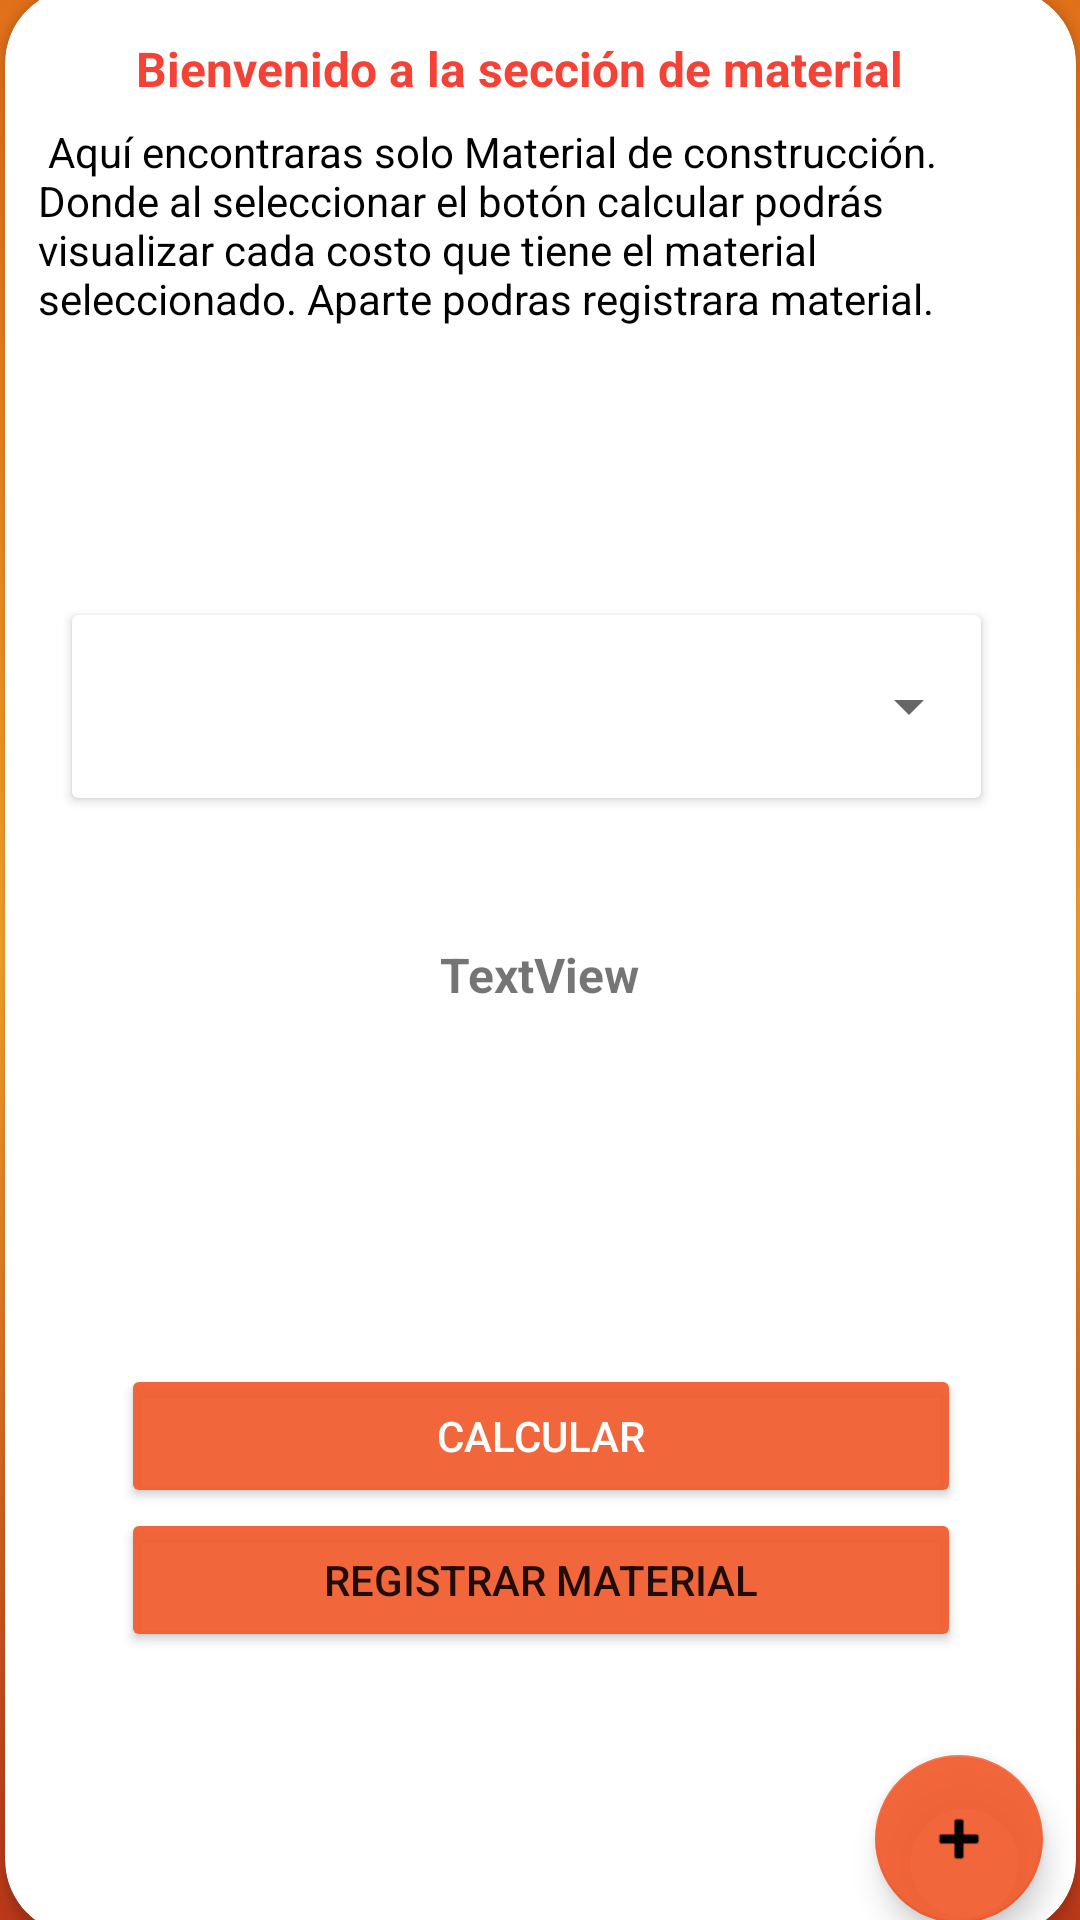

Named icons in this screenshot (1080px×1920px) and their bounding boxes, (x1, y1, x2, y2):
add: (875, 1755, 1043, 1920)
